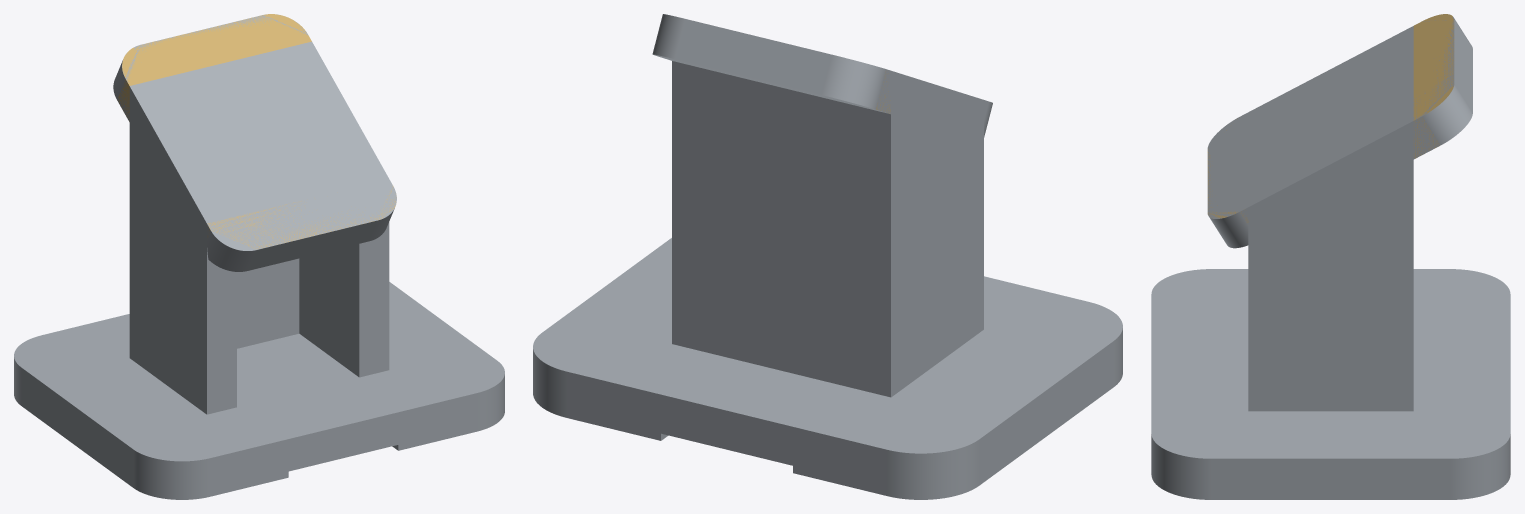
File: step_05.glb
3 renders of one model, left to right at view 1: azimuth 30°, elevation 25°; view 2: azimuth 150°, elevation 25°; view 3: azimuth 270°, elevation 25°, orthographic. The views are drawn at different scales.
Visible parts, largest first — view 1: part__angle bracket, added__angle bracket; view 2: part__angle bracket; view 3: part__angle bracket, added__angle bracket.
Part boxes in pixels (x1,y1,x2,y2): part__angle bracket: [14, 14, 504, 499]; added__angle bracket: [117, 14, 395, 249]; part__angle bracket: [533, 14, 1122, 499]; part__angle bracket: [1151, 14, 1510, 499]; added__angle bracket: [1207, 14, 1454, 222].
Bounding box in the file's own units: 95.25 × 82.68 × 76.2.
